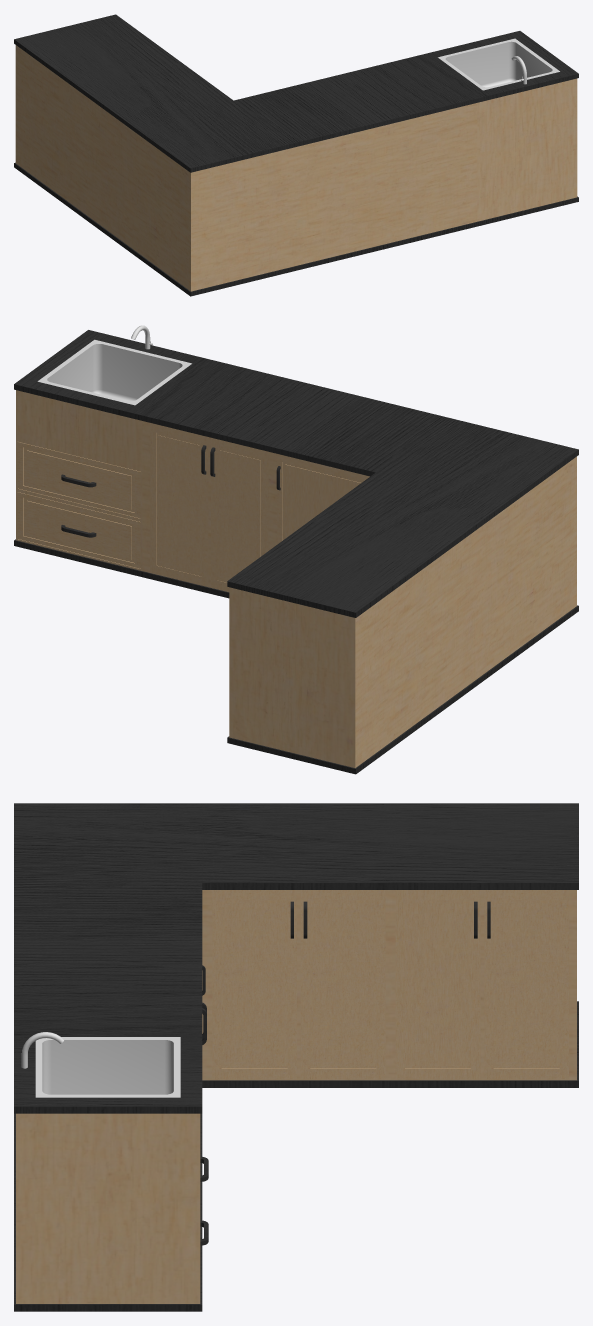
The model's file is сorner_kitchen.fbx.
3 views of the same model, one above another, from view 1: azimuth 30°, elevation 25°; view 2: azimuth 150°, elevation 25°; view 3: azimuth 270°, elevation 25° (orthographic). The views are drawn at different scales.
Visible parts, largest first — view 1: сorner_kitchen; view 2: сorner_kitchen, hatch_1_1, hatch_1_2, latch_1, latch_1_1, hatch_2; view 3: сorner_kitchen, hatch_3_2, hatch_4_1, hatch_3_1, hatch_4_2.
Boxes of the visible parts, bbox=[...] form: сorner_kitchen: bbox=[14, 14, 578, 296]; сorner_kitchen: bbox=[14, 325, 578, 774]; hatch_1_1: bbox=[150, 423, 208, 586]; hatch_1_2: bbox=[210, 438, 268, 591]; latch_1: bbox=[17, 442, 140, 518]; latch_1_1: bbox=[17, 492, 140, 568]; hatch_2: bbox=[276, 456, 367, 544]; сorner_kitchen: bbox=[14, 803, 578, 1311]; hatch_3_2: bbox=[300, 890, 385, 1079]; hatch_4_1: bbox=[395, 890, 480, 1079]; hatch_3_1: bbox=[212, 890, 296, 1079]; hatch_4_2: bbox=[484, 890, 568, 1079].
Bounding box in the file's own units: 381 × 141 × 300.
Materials: 3 (3 with a texture image).
